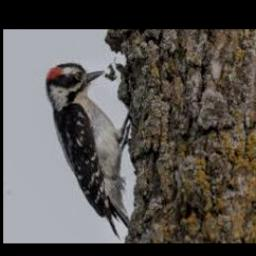Woodpecker: (44, 63, 131, 241)
